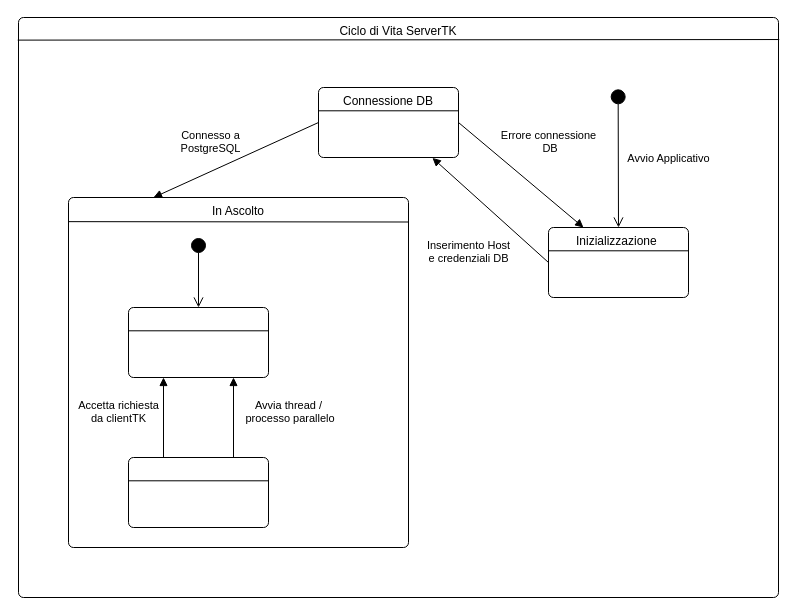
Some shapes in this 798 by 615 pixel diagram are drawn without their labels. The shapes that lost their labels are listed below. From the top down, each one's centre as x and y in pixels, then its label:
At point (198, 342): "Attesa Connessioni".
At point (198, 492): "Gestione Client".
